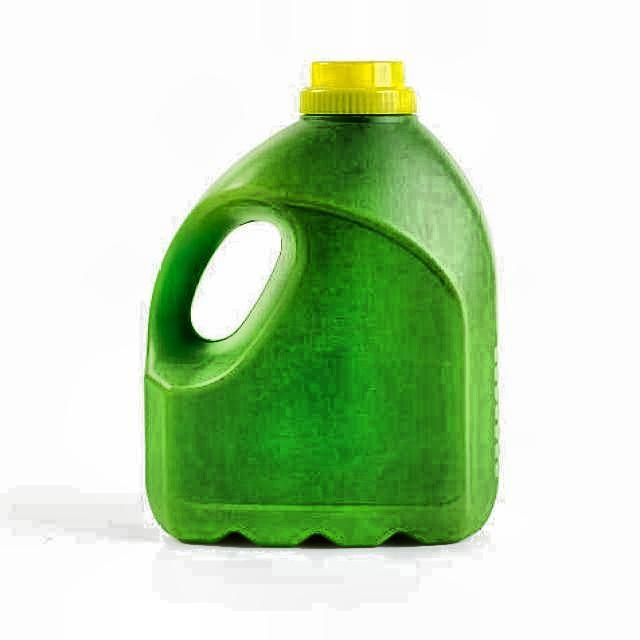plastic: (143, 57, 502, 551)
